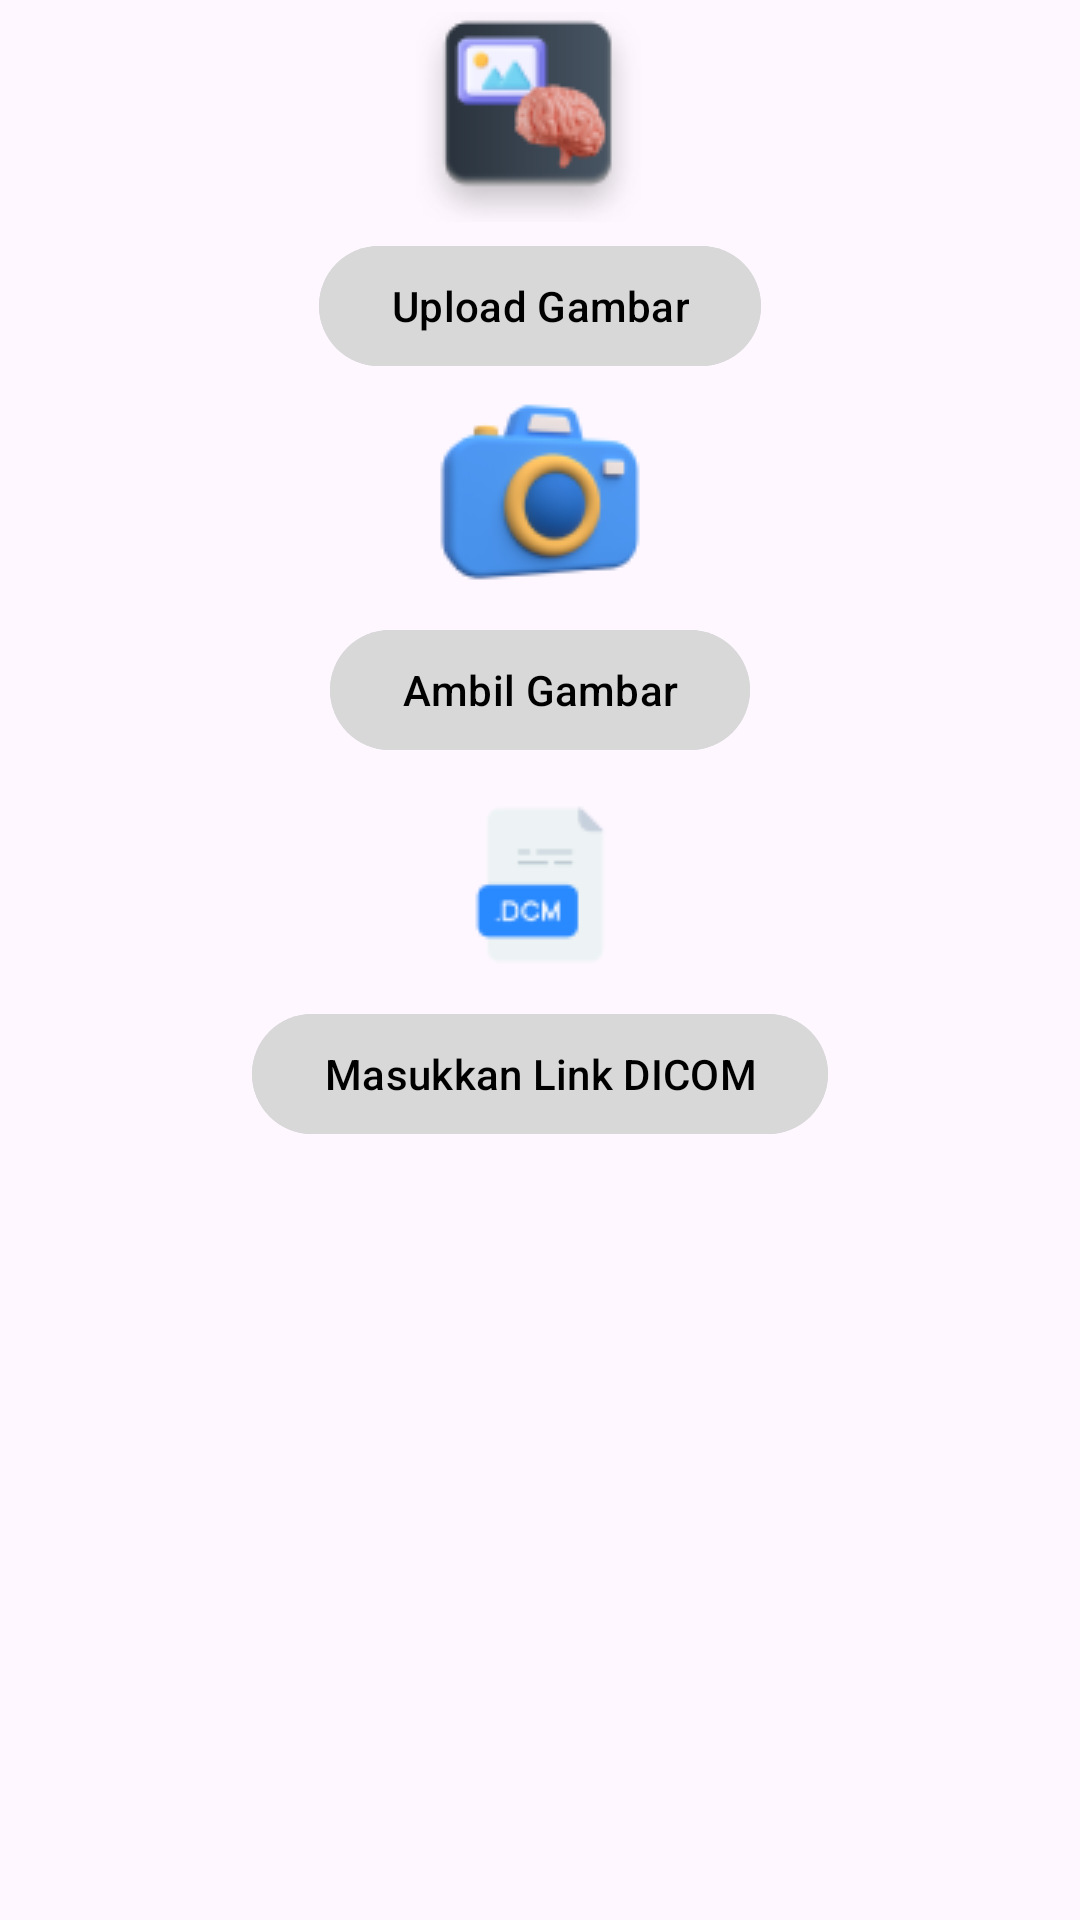

Icon bounding boxes for this 1080 × 1920 phone screenshot, format (x1, y1, x2, y2):
kamera: (440, 404, 640, 580)
